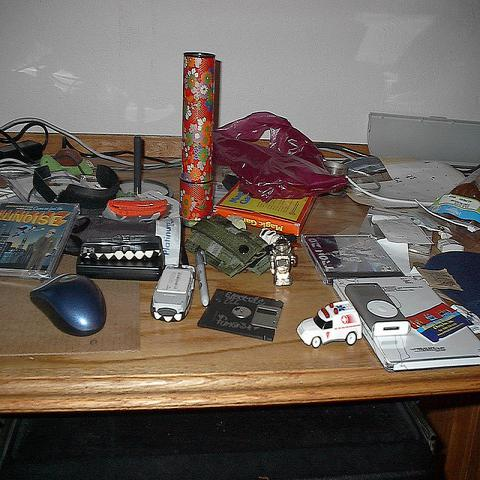car: (294, 301, 362, 348)
